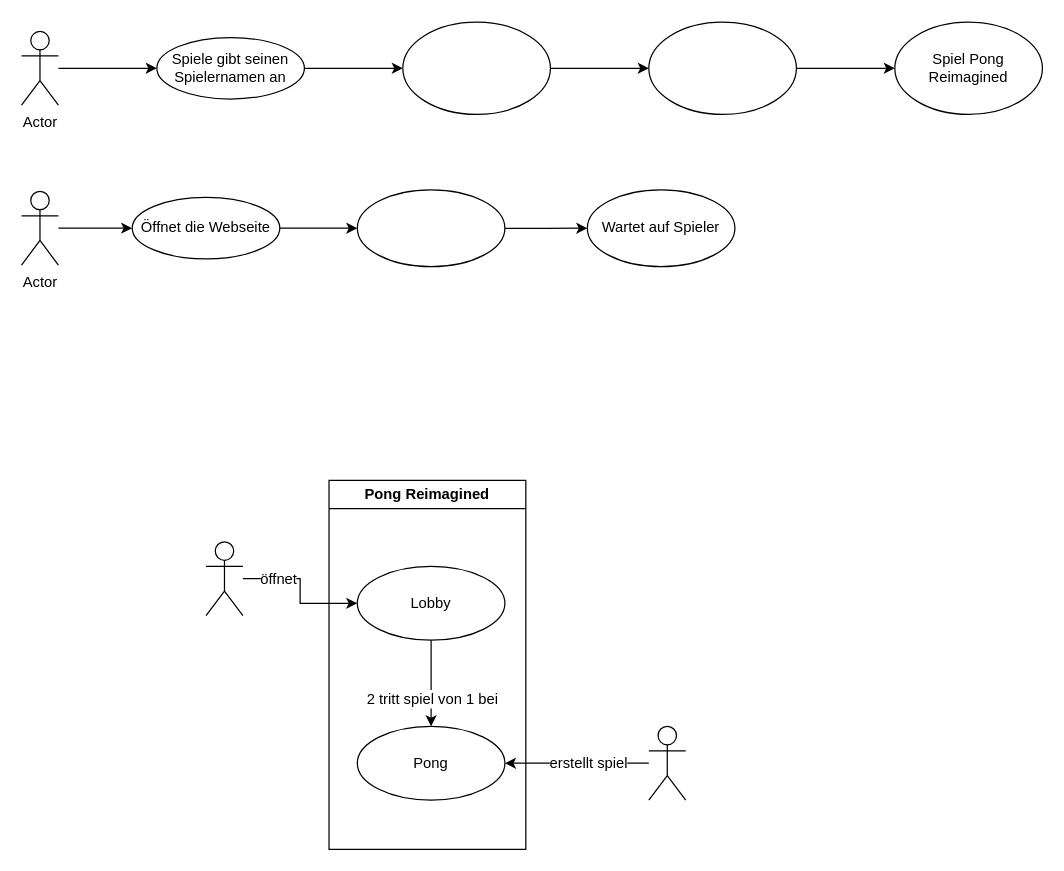
Image size: 1064x871. Some labels were removed from this diagram. The shapes that lost their labels are listed below. From the top down, each one's centre as x and y in pixels, then its label:
At (476,67): "Nutzer sucht in der Lobby nach offenen Spielen".
At (722,67): "Tritt einem Spiel bei".
At (430,228): "Erstellt ein neues Spiel".
At (224,578): "Actor 2".
At (667,762): "Actor 1".
